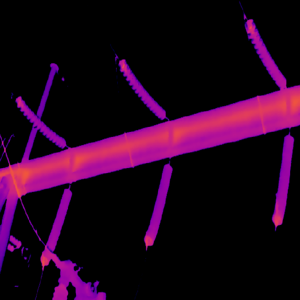insulator: (243, 16, 286, 90), (118, 56, 165, 121), (13, 93, 65, 149), (38, 186, 73, 266), (142, 161, 173, 246), (270, 133, 295, 225)
